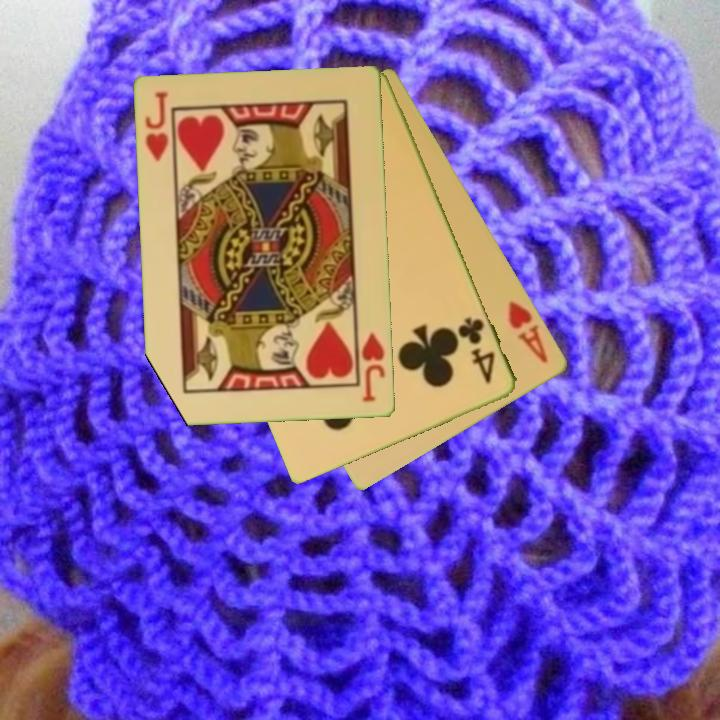4c: (455, 313, 499, 387)
Ah: (505, 297, 552, 367)
Jh: (358, 329, 389, 406), (142, 88, 172, 165)
